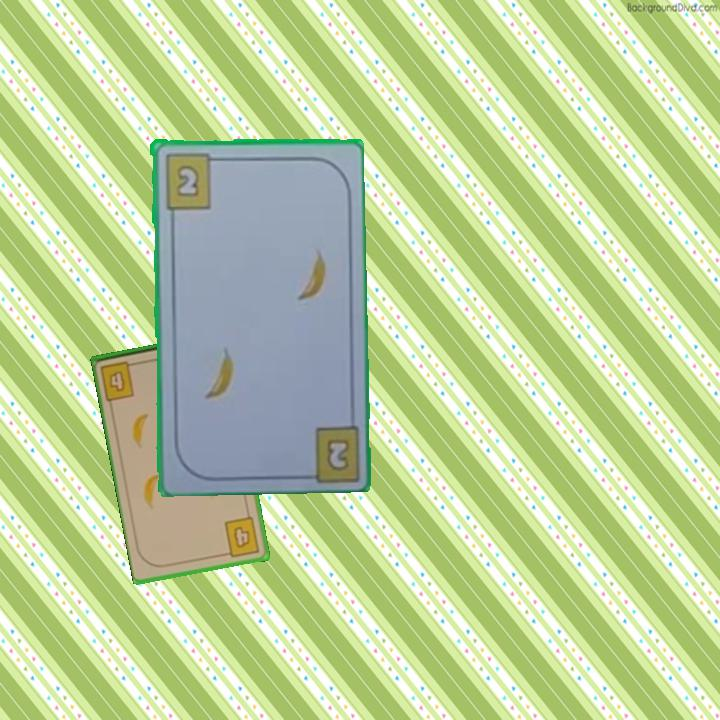2b: (161, 149, 222, 211), (325, 438, 349, 470)
4b: (97, 357, 142, 403), (220, 513, 262, 560)
